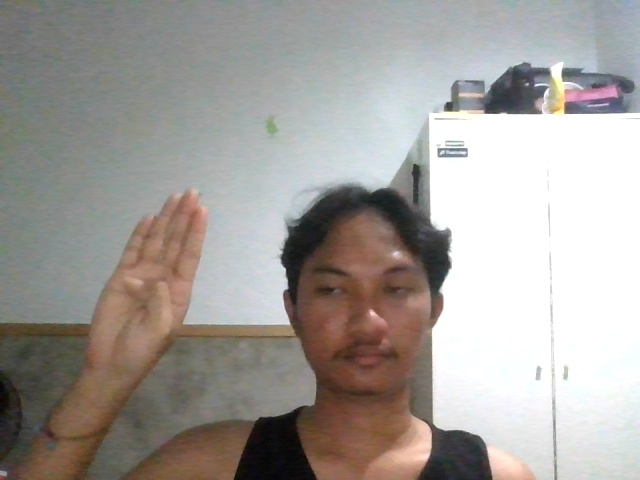b: (56, 178, 233, 383)
